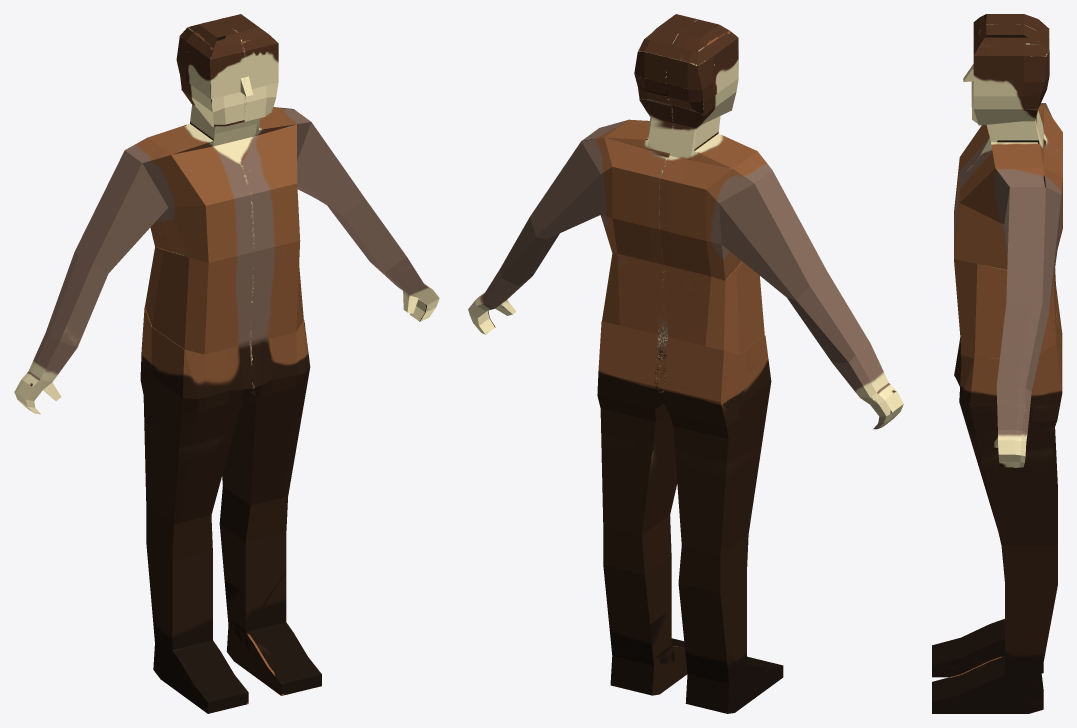
Rendered from zhigga_basic.gltf.
The picture shows the model from 3 angles, left to right: view 1: azimuth 30°, elevation 25°; view 2: azimuth 150°, elevation 25°; view 3: azimuth 270°, elevation 25°; orthographic projection. The views are drawn at different scales.
Visible parts, largest first — view 1: Sphere; view 2: Sphere; view 3: Sphere.
Boxes of the visible parts, bbox=[...] form: Sphere: bbox=[14, 14, 439, 713]; Sphere: bbox=[468, 14, 903, 713]; Sphere: bbox=[932, 14, 1062, 713].
Bounding box in the file's own units: 25.68 × 38.37 × 6.87.
Materials: 1 (1 with a texture image).
